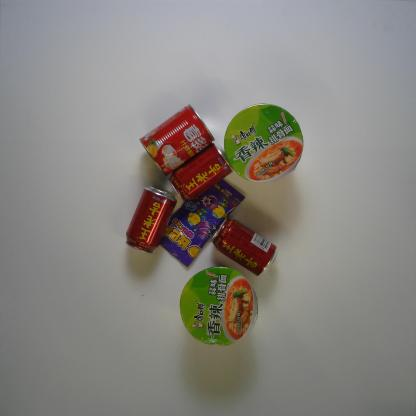Candy: (159, 179, 246, 268)
Canned Food: (139, 104, 215, 176)
Drink: (210, 217, 279, 277), (168, 143, 233, 203), (125, 186, 178, 254)
Instant Noodles: (223, 102, 304, 184), (179, 265, 259, 346)
